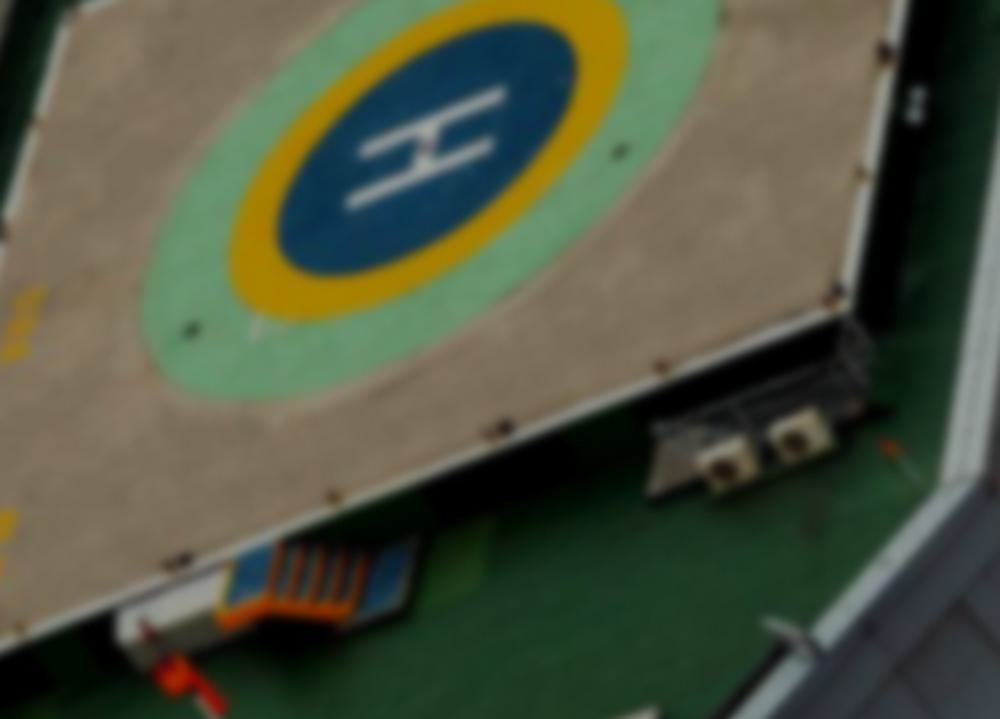Apron: (225, 1, 633, 323)
